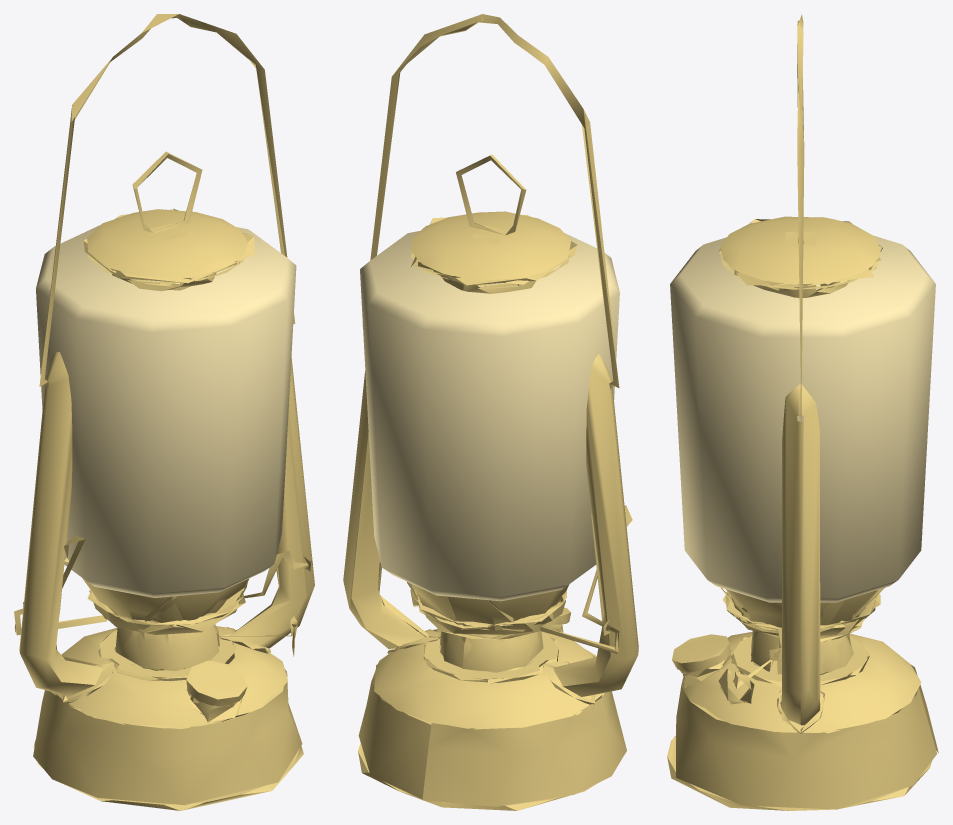
The model's file is OW_IstanbulLantern.fbx.
The picture shows the model from 3 angles, left to right: view 1: azimuth 30°, elevation 25°; view 2: azimuth 150°, elevation 25°; view 3: azimuth 270°, elevation 25°; orthographic projection.
Parts seen in each view (by area): view 1: OW_IstanbulLantern, LanternCore; view 2: OW_IstanbulLantern, LanternCore; view 3: LanternCore, OW_IstanbulLantern.
Boxes of the visible parts, x1,y1,x2,y2 form: OW_IstanbulLantern: (14, 14, 314, 810); LanternCore: (36, 225, 296, 597); OW_IstanbulLantern: (343, 14, 638, 810); LanternCore: (360, 231, 619, 601); LanternCore: (670, 235, 935, 602); OW_IstanbulLantern: (667, 14, 938, 810).
Size of the model in its own units: 21.64 by 52 by 17.31.
